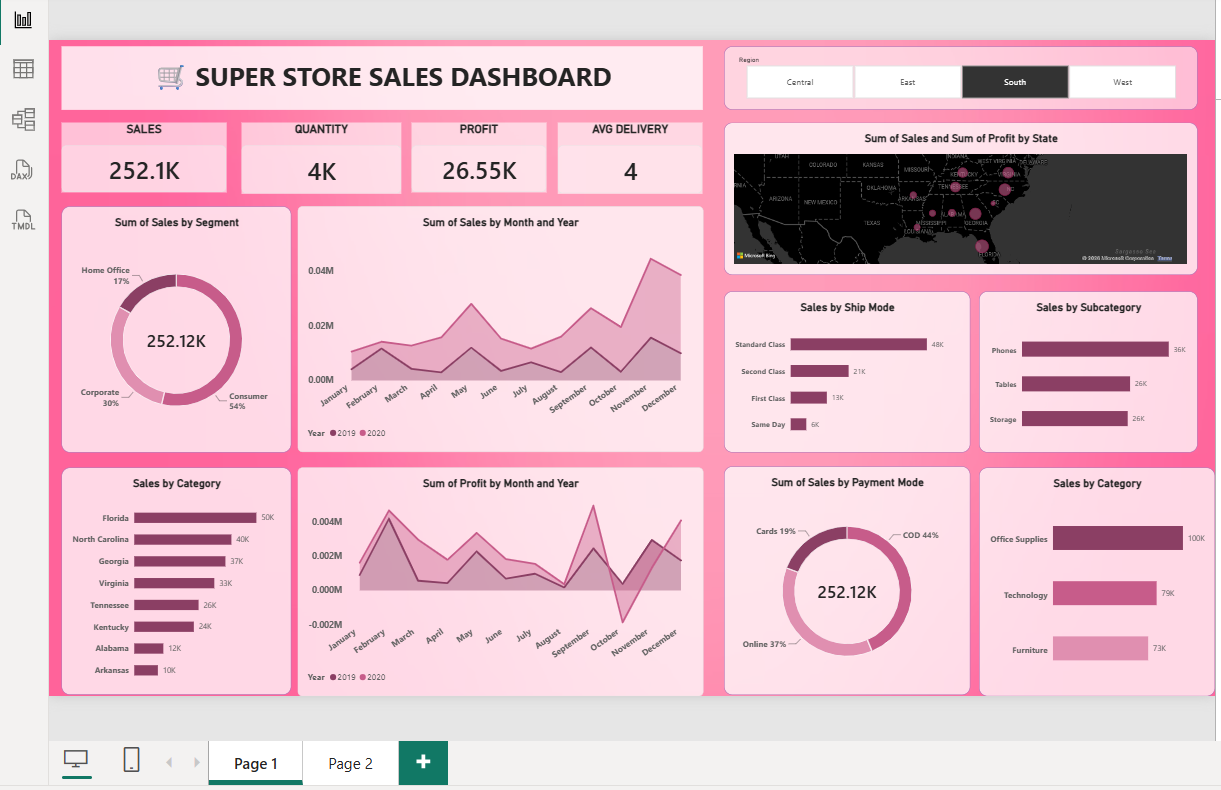

The page's visual inventory and layout, read from the dashboard file:
{"tool":"powerbi","page":{"name":"Page 1","canvas":[1920,1080],"ordinal":0},"visuals":[{"type":"clusteredBarChart","title":"Sales by Category","fields":{"Category":["SuperStore_Sales_Dataset.Category"],"Y":["Sum(SuperStore_Sales_Dataset.Sales)"]},"box":[1531.4,703.9,389,376.7],"z":0},{"type":"clusteredBarChart","title":" Sales by Subcategory","fields":{"Category":["SuperStore_Sales_Dataset.Sub-Category"],"Y":["Sum(SuperStore_Sales_Dataset.Sales)"]},"box":[1531.4,413.7,360.2,265.5],"z":1000},{"type":"clusteredBarChart","title":" Sales by Ship Mode","fields":{"Category":["SuperStore_Sales_Dataset.Ship Mode"],"Y":["Sum(SuperStore_Sales_Dataset.Sales)"]},"box":[1111.5,413.7,405.5,265.5],"z":2000},{"type":"stackedAreaChart","fields":{"Category":["SuperStore_Sales_Dataset.Order Date.Variation.Date Hierarchy.Month","SuperStore_Sales_Dataset.Order Date.Variation.Date Hierarchy.Day"],"Series":["SuperStore_Sales_Dataset.Order Date.Variation.Date Hierarchy.Year"],"Y":["Sum(SuperStore_Sales_Dataset.Sales)"]},"box":[409.7,273.1,667.7,404.6],"z":3000},{"type":"stackedAreaChart","fields":{"Category":["SuperStore_Sales_Dataset.Order Date.Variation.Date Hierarchy.Month","SuperStore_Sales_Dataset.Order Date.Variation.Date Hierarchy.Day"],"Series":["SuperStore_Sales_Dataset.Order Date.Variation.Date Hierarchy.Year"],"Y":["Sum(SuperStore_Sales_Dataset.Profit)"]},"box":[409.7,703.1,667.7,376.8],"z":4000},{"type":"map","fields":{"Category":["SuperStore_Sales_Dataset.State"],"Size":["Sum(SuperStore_Sales_Dataset.Sales)"]},"box":[1111.5,135.8,780.1,251.1],"z":5000},{"type":"donutChart","fields":{"Category":["SuperStore_Sales_Dataset.Segment"],"Y":["Sum(SuperStore_Sales_Dataset.Sales)"]},"box":[20.6,273.8,378.7,405.5],"z":6000},{"type":"donutChart","fields":{"Category":["SuperStore_Sales_Dataset.Payment Mode"],"Y":["Sum(SuperStore_Sales_Dataset.Sales)"]},"box":[1111.5,701.9,405.5,376.7],"z":7000},{"type":"slicer","fields":{"Values":["SuperStore_Sales_Dataset.Region"]},"box":[1111.5,10.3,780.1,105],"z":8000},{"type":"textbox","box":[20.6,0,1055.9,115.3],"z":9000},{"type":"cardVisual","title":"SALES","fields":{"Data":["Sum(SuperStore_Sales_Dataset.Sales)"]},"box":[20.6,135.8,271.7,115.3],"z":10000},{"type":"cardVisual","title":"QUANTITY","fields":{"Data":["Sum(SuperStore_Sales_Dataset.Quantity)"]},"box":[317,135.8,263.5,117.3],"z":11000},{"type":"cardVisual","title":"PROFIT","fields":{"Data":["Sum(SuperStore_Sales_Dataset.Profit)"]},"box":[596.9,135.8,222.3,115.3],"z":12000},{"type":"cardVisual","title":"AVG DELIVERY","fields":{"Data":["Avg(SuperStore_Sales_Dataset.AvgDelivery)"]},"box":[837.7,135.8,238.8,117.3],"z":13000},{"type":"clusteredBarChart","title":"Sales by Category","fields":{"Category":["SuperStore_Sales_Dataset.State"],"Y":["Sum(SuperStore_Sales_Dataset.Sales)"]},"box":[20.6,703.9,378.7,374.6],"z":13001}]}

Visuals, with their boxes on the page's 1920x1080 design canvas (x1, y1, x2, y2). These are canvas units, not pixel positions in the 1221x790 screenshot, which may show the page scaled, cropped or inside an application window:
"Sales by Category" clusteredBarChart: [1531, 704, 1920, 1081]
" Sales by Subcategory" clusteredBarChart: [1531, 414, 1892, 679]
" Sales by Ship Mode" clusteredBarChart: [1112, 414, 1517, 679]
stackedAreaChart - SuperStore_Sales_Dataset.Order Date.Variation.Date Hierarchy.Month x SuperStore_Sales_Dataset.Order Date.Variation.Date Hierarchy.Day: [410, 273, 1077, 678]
stackedAreaChart - SuperStore_Sales_Dataset.Order Date.Variation.Date Hierarchy.Month x SuperStore_Sales_Dataset.Order Date.Variation.Date Hierarchy.Day: [410, 703, 1077, 1080]
map - SuperStore_Sales_Dataset.State x Sum(SuperStore_Sales_Dataset.Sales): [1112, 136, 1892, 387]
donutChart - SuperStore_Sales_Dataset.Segment x Sum(SuperStore_Sales_Dataset.Sales): [21, 274, 399, 679]
donutChart - SuperStore_Sales_Dataset.Payment Mode x Sum(SuperStore_Sales_Dataset.Sales): [1112, 702, 1517, 1079]
slicer - SuperStore_Sales_Dataset.Region: [1112, 10, 1892, 115]
textbox: [21, 0, 1076, 115]
"SALES" cardVisual: [21, 136, 292, 251]
"QUANTITY" cardVisual: [317, 136, 580, 253]
"PROFIT" cardVisual: [597, 136, 819, 251]
"AVG DELIVERY" cardVisual: [838, 136, 1076, 253]
"Sales by Category" clusteredBarChart: [21, 704, 399, 1078]
